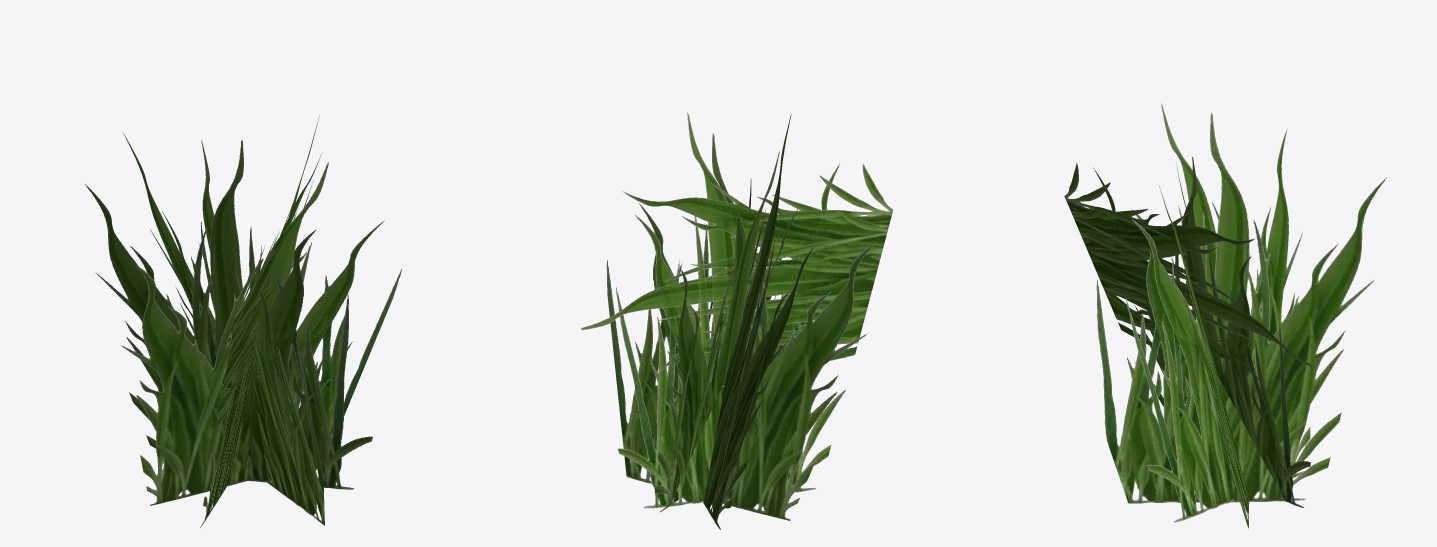
The model's file is grass2test.fbx.
3 renders of one model, left to right at view 1: azimuth 30°, elevation 25°; view 2: azimuth 150°, elevation 25°; view 3: azimuth 270°, elevation 25°, orthographic. The views are drawn at different scales.
Parts seen in each view (by area): view 1: Plane.003; view 2: Plane.003; view 3: Plane.003.
Part boxes in pixels (<box>): Plane.003: <box>85,115,401,527</box>; Plane.003: <box>581,112,893,529</box>; Plane.003: <box>1064,103,1386,529</box>.
Size of the model in its own units: 2 by 1.92 by 2.
